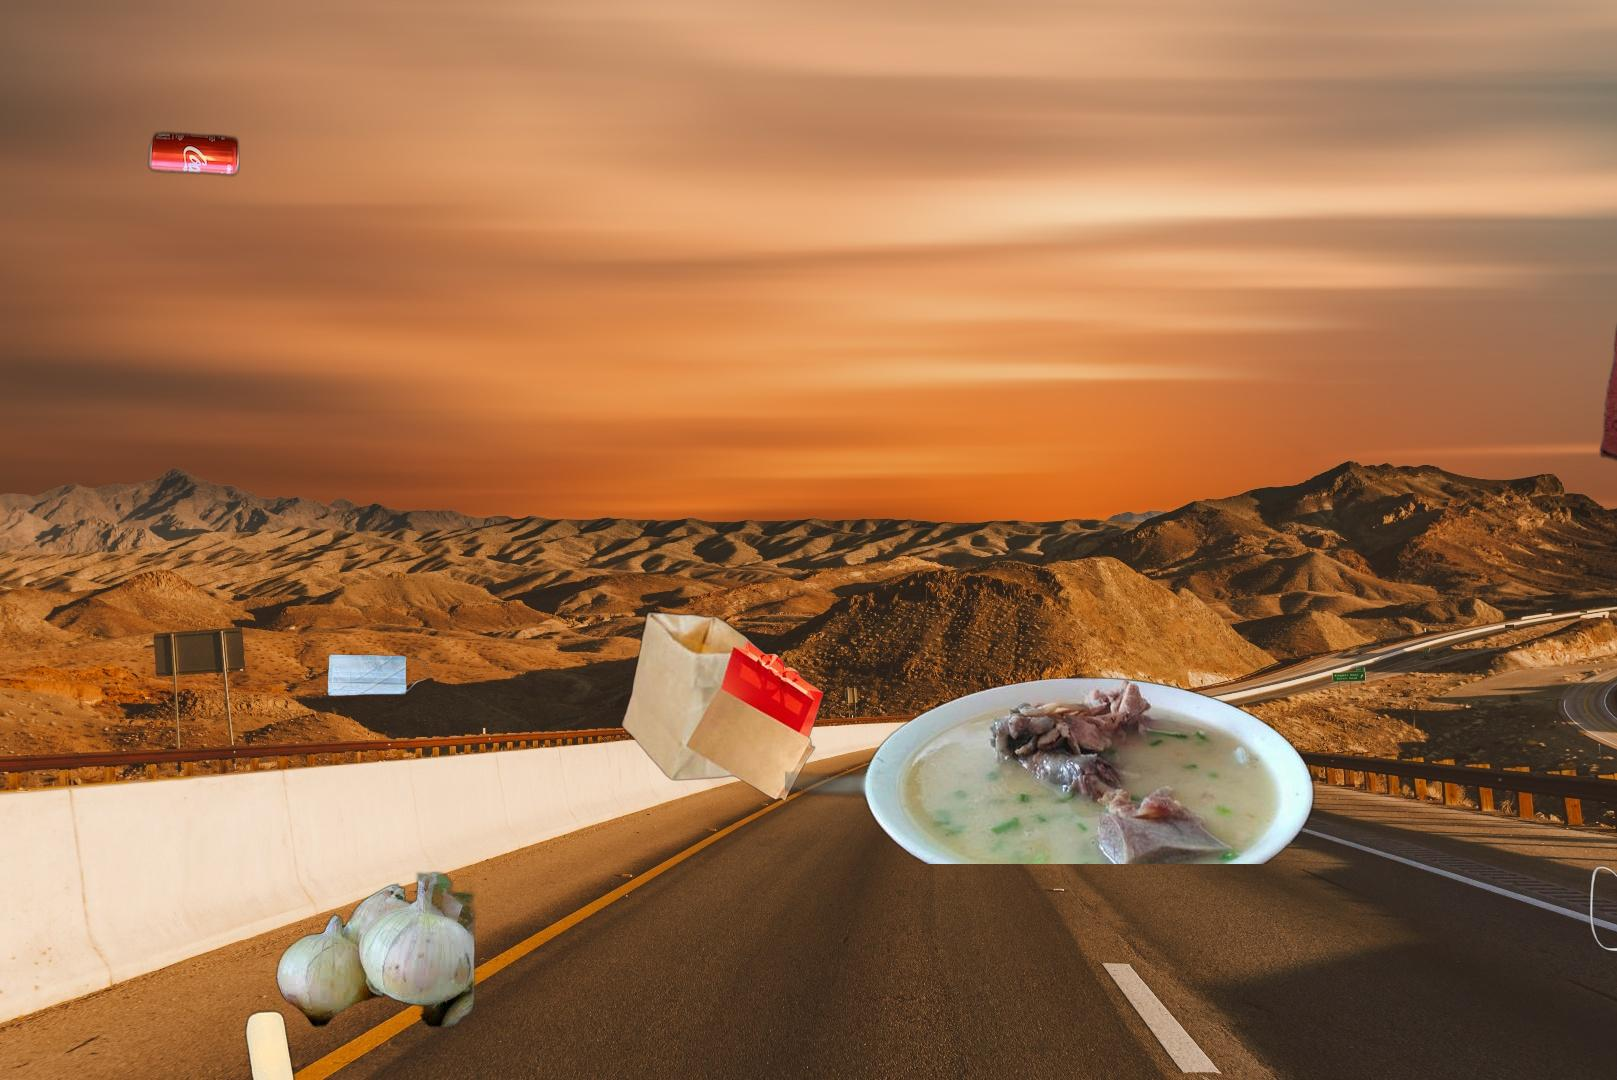biological: (784, 444, 1395, 864), (274, 856, 480, 1031)
clothes: (1597, 209, 1617, 528)
metal-cans: (145, 127, 245, 181)
paper-bag: (618, 541, 827, 805)
plastic-bottles: (242, 1005, 302, 1080)
trash: (305, 651, 431, 699), (1587, 830, 1617, 1016)
